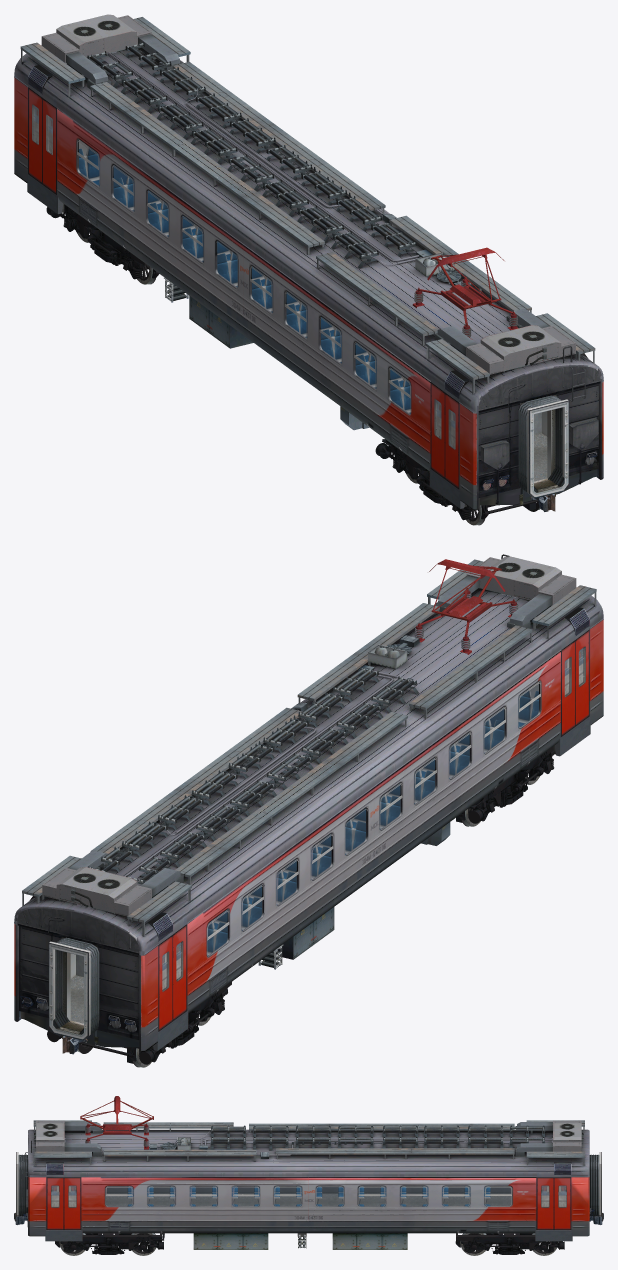
3 renders of one model, top to bottom at view 1: azimuth 30°, elevation 25°; view 2: azimuth 150°, elevation 25°; view 3: azimuth 270°, elevation 25°, orthographic. The views are drawn at different scales.
Parts seen in each view (by area): view 1: ed431m_1, ed431m_3, ed431m_2, ostekl, telega, ed431m_door3, ed431m_door4, pantogr; view 2: ed431m_1, ed431m_3, ed431m_2, ostekl, telega, ed431m_door4, ed431m_door3, pantogr; view 3: ed431m_1, ed431m_3, ostekl, ed431m_2, telega, ed431m_door2, ed431m_door1, pantogr.
Part boxes in pixels (x1,y1,x2,y2): ed431m_1: [14, 42, 603, 509]; ed431m_3: [20, 14, 595, 394]; ed431m_2: [32, 104, 556, 488]; ostekl: [76, 136, 411, 417]; telega: [46, 204, 540, 525]; ed431m_door3: [42, 98, 459, 489]; ed431m_door4: [28, 87, 444, 478]; pantogr: [412, 247, 518, 339]; ed431m_1: [14, 554, 603, 1052]; ed431m_3: [20, 556, 596, 1010]; ed431m_2: [61, 646, 585, 1023]; ostekl: [206, 678, 541, 959]; telega: [47, 746, 554, 1067]; ed431m_door4: [158, 640, 575, 1031]; ed431m_door3: [173, 629, 589, 1020]; pantogr: [414, 559, 518, 654]; ed431m_1: [16, 1126, 601, 1249]; ed431m_3: [33, 1120, 594, 1221]; ostekl: [104, 1185, 512, 1207]; ed431m_2: [51, 1185, 566, 1207]; telega: [55, 1233, 564, 1255]; ed431m_door2: [64, 1177, 571, 1229]; ed431m_door1: [46, 1177, 553, 1229]; pantogr: [80, 1096, 153, 1149].
Bounding box in the file's own units: 3.18 × 5.5 × 20.37.
33 materials, 33 textured.
